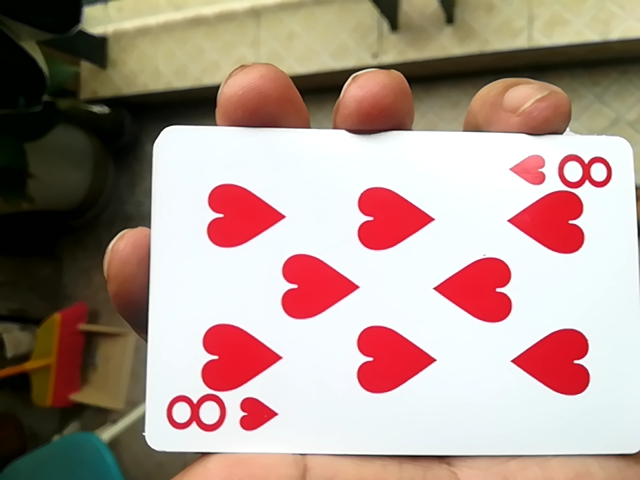hx 8: (131, 119, 625, 465)
